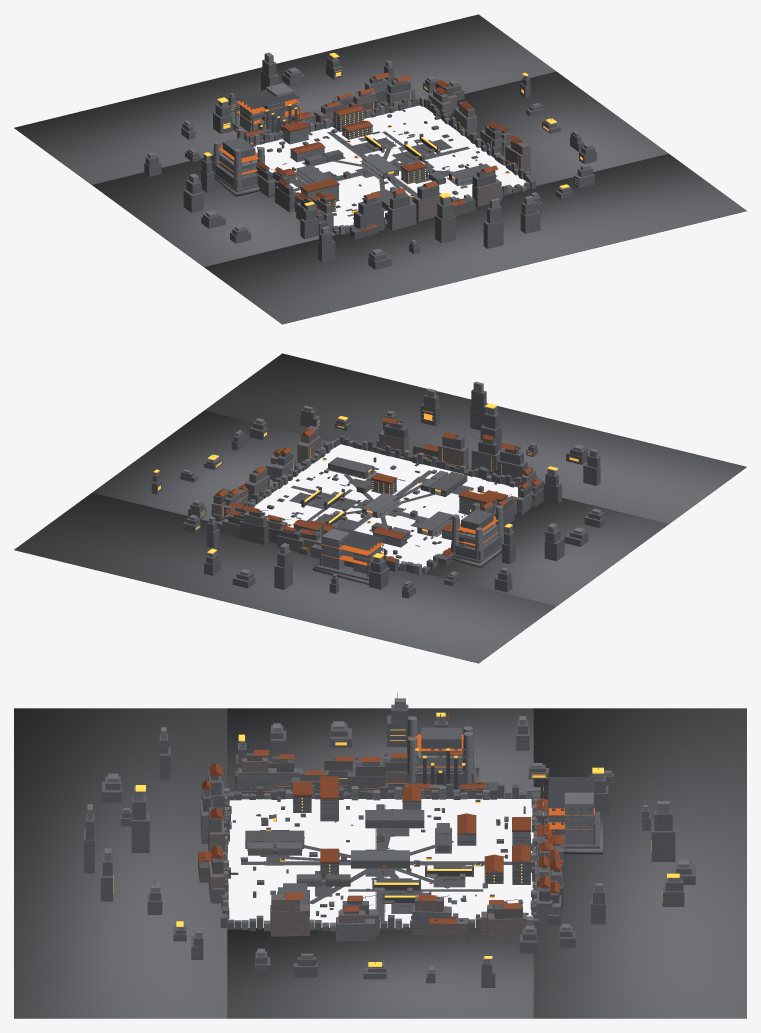
3 views of the same model, one above another, from view 1: azimuth 30°, elevation 25°; view 2: azimuth 150°, elevation 25°; view 3: azimuth 270°, elevation 25° (orthographic). The views are drawn at different scales.
Visible parts, largest first — view 1: HB_z01_LOD0_terrain, HB_z01_LOD0_wall_alt, HB_z01_LOD0_wall_warm, HB_z01_LOD0_wall, HB_z01_LOD0_wall_cool, HB_z01_LOD0_wall_weathered, HB_z01_LOD0_roof, HB_z01_LOD0_trim, HB_z01_LOD0_road, HB_z01_LOD0_LANDMARK_0_trim, HB_z01_LOD0_LANDMARK_1_wall_alt, HB_z01_LOD0_LANDMARK_1_wall (+2 smaller); view 2: HB_z01_LOD0_terrain, HB_z01_LOD0_wall_alt, HB_z01_LOD0_wall_weathered, HB_z01_LOD0_wall_cool, HB_z01_LOD0_wall, HB_z01_LOD0_wall_warm, HB_z01_LOD0_roof, HB_z01_LOD0_road, HB_z01_LOD0_trim, HB_z01_LOD0_LANDMARK_1_wall_alt, HB_z01_LOD0_LANDMARK_0_wall, HB_z01_LOD0_LANDMARK_1_wall (+2 smaller); view 3: HB_z01_LOD0_terrain, HB_z01_LOD0_wall_alt, HB_z01_LOD0_wall_warm, HB_z01_LOD0_roof, HB_z01_LOD0_wall_cool, HB_z01_LOD0_wall, HB_z01_LOD0_wall_weathered, HB_z01_LOD0_road, HB_z01_LOD0_trim, HB_z01_LOD0_LANDMARK_1_wall, HB_z01_LOD0_LANDMARK_1_wall_alt, HB_z01_LOD0_LANDMARK_0_wall (+4 smaller).
Boxes of the visible parts, bbox=[...] form: HB_z01_LOD0_terrain: bbox=[14, 14, 746, 324]; HB_z01_LOD0_wall_alt: bbox=[144, 57, 596, 269]; HB_z01_LOD0_wall_warm: bbox=[255, 88, 530, 238]; HB_z01_LOD0_wall: bbox=[147, 52, 592, 255]; HB_z01_LOD0_wall_cool: bbox=[259, 78, 510, 230]; HB_z01_LOD0_wall_weathered: bbox=[256, 77, 498, 238]; HB_z01_LOD0_roof: bbox=[244, 72, 523, 230]; HB_z01_LOD0_trim: bbox=[249, 57, 551, 228]; HB_z01_LOD0_road: bbox=[293, 124, 477, 211]; HB_z01_LOD0_LANDMARK_0_trim: bbox=[236, 87, 299, 132]; HB_z01_LOD0_LANDMARK_1_wall_alt: bbox=[212, 137, 258, 191]; HB_z01_LOD0_LANDMARK_1_wall: bbox=[213, 128, 264, 189]; HB_z01_LOD0_terrain: bbox=[14, 353, 746, 663]; HB_z01_LOD0_wall_alt: bbox=[151, 389, 605, 598]; HB_z01_LOD0_wall_weathered: bbox=[212, 423, 543, 565]; HB_z01_LOD0_wall_cool: bbox=[222, 447, 540, 571]; HB_z01_LOD0_wall: bbox=[154, 381, 601, 586]; HB_z01_LOD0_wall_warm: bbox=[211, 426, 535, 552]; HB_z01_LOD0_roof: bbox=[215, 417, 540, 561]; HB_z01_LOD0_road: bbox=[290, 468, 473, 538]; HB_z01_LOD0_trim: bbox=[212, 407, 540, 558]; HB_z01_LOD0_LANDMARK_1_wall_alt: bbox=[451, 509, 501, 563]; HB_z01_LOD0_LANDMARK_0_wall: bbox=[321, 528, 380, 573]; HB_z01_LOD0_LANDMARK_1_wall: bbox=[451, 503, 503, 560]; HB_z01_LOD0_terrain: bbox=[14, 708, 746, 1018]; HB_z01_LOD0_wall_alt: bbox=[84, 704, 695, 987]; HB_z01_LOD0_wall_warm: bbox=[204, 756, 552, 940]; HB_z01_LOD0_roof: bbox=[197, 750, 563, 923]; HB_z01_LOD0_wall_cool: bbox=[200, 758, 563, 940]; HB_z01_LOD0_wall: bbox=[87, 698, 688, 972]; HB_z01_LOD0_wall_weathered: bbox=[198, 753, 563, 939]; HB_z01_LOD0_road: bbox=[241, 804, 512, 921]; HB_z01_LOD0_trim: bbox=[111, 692, 598, 963]; HB_z01_LOD0_LANDMARK_1_wall: bbox=[407, 716, 474, 784]; HB_z01_LOD0_LANDMARK_1_wall_alt: bbox=[404, 727, 475, 789]; HB_z01_LOD0_LANDMARK_0_wall: bbox=[565, 792, 593, 844].
Size of the model in its own units: 722 by 78.66 by 722.
15 materials, 12 textured.
